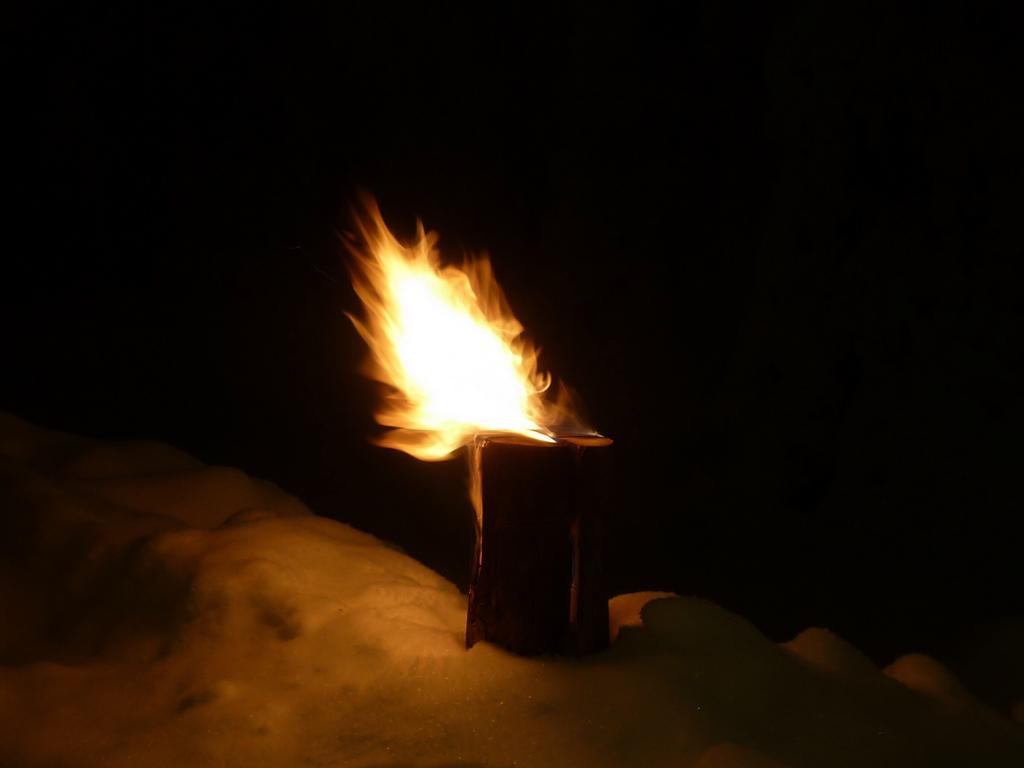fire: (388, 260, 542, 444)
